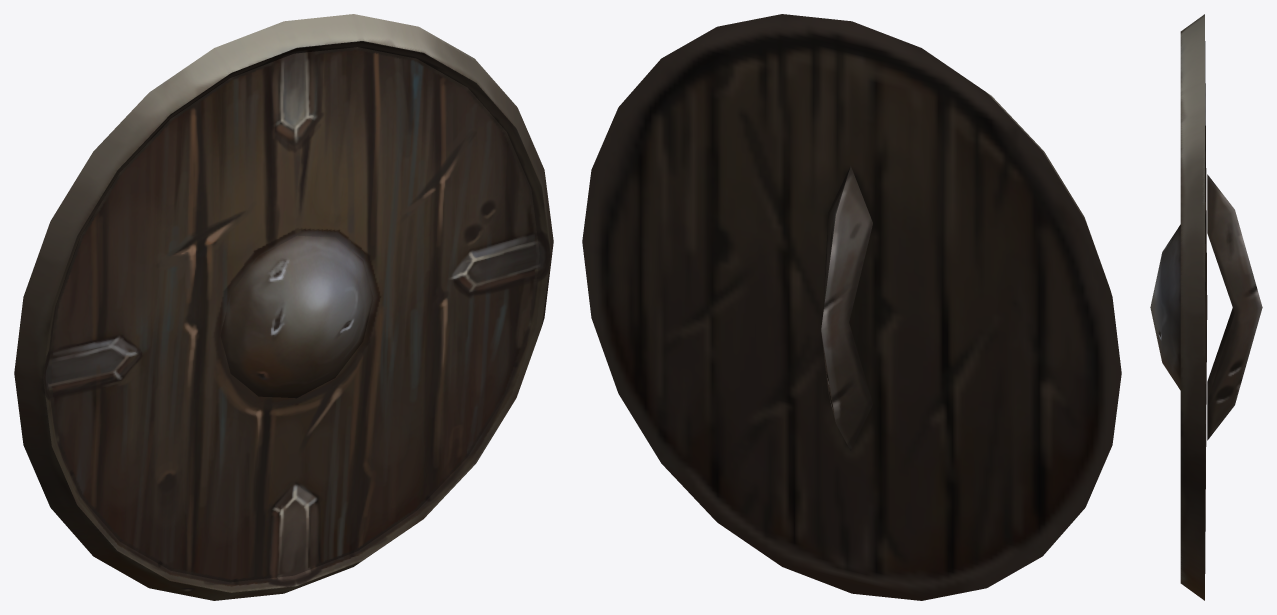
File: Shield07.fbx
3 renders of one model, left to right at view 1: azimuth 30°, elevation 25°; view 2: azimuth 150°, elevation 25°; view 3: azimuth 270°, elevation 25°, orthographic. The views are drawn at different scales.
Visible parts, largest first — view 1: Shield07; view 2: Shield07; view 3: Shield07.
Part boxes in pixels (x1,y1,x2,y2): Shield07: (14,14,553,600); Shield07: (582,14,1121,600); Shield07: (1150,14,1262,600).
Size of the model in its own units: 1.24 by 1.26 by 0.2392.
